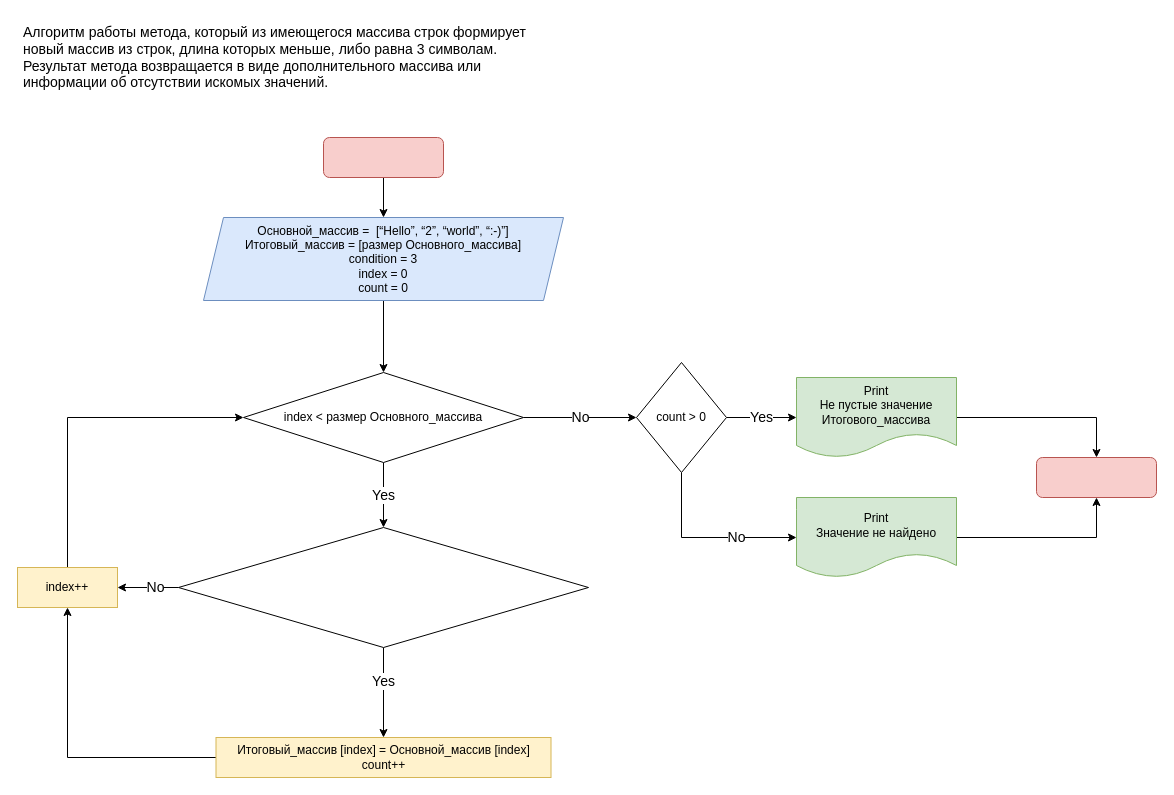
This 1174x795 diagram has some shape labels left out. The box of each missing label's shape, as (x1, y1, x2, y2) in pixels:
END: (1036, 456, 1156, 498)
Start: (322, 136, 444, 178)
Основной_массив [размер значения index.] <= condition: (178, 526, 588, 648)
